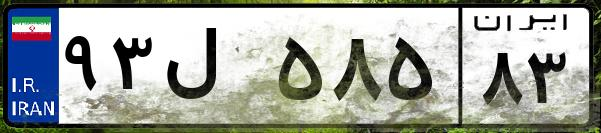3: (525, 38, 570, 115), (110, 28, 158, 98)
5: (270, 28, 330, 110), (385, 28, 445, 110)
8: (330, 28, 385, 110), (475, 38, 525, 113)
9: (57, 26, 110, 100)
ل: (158, 20, 270, 120)
